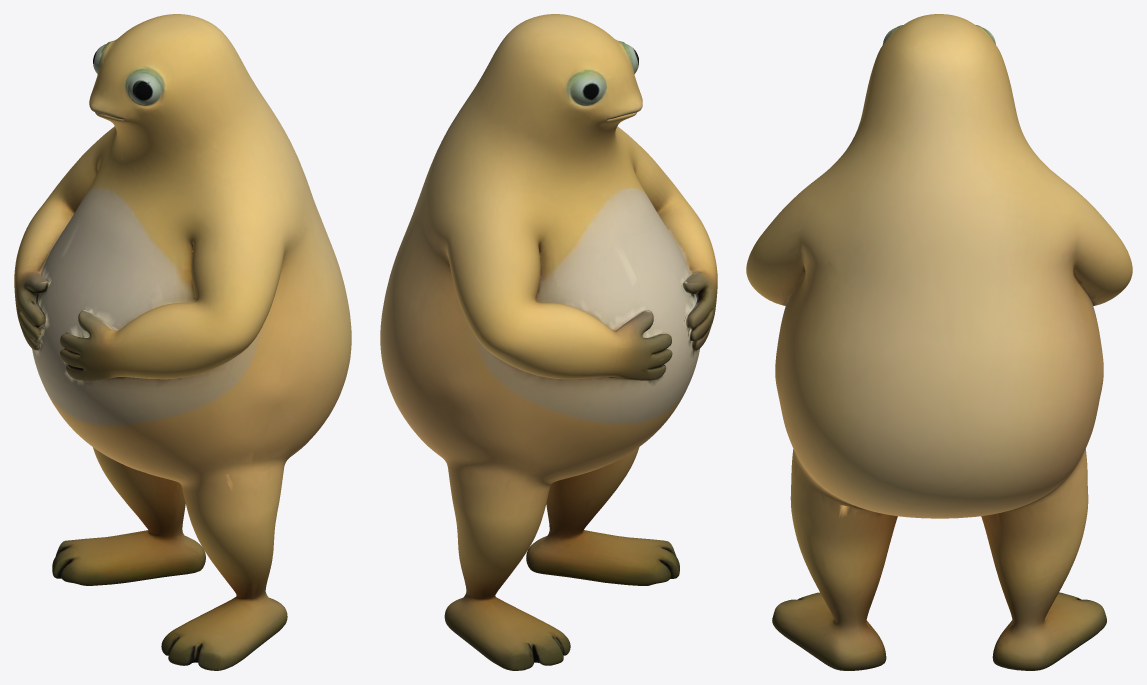
File: baby1.glb
The picture shows the model from 3 angles, left to right: view 1: azimuth 30°, elevation 25°; view 2: azimuth 150°, elevation 25°; view 3: azimuth 270°, elevation 25°; orthographic projection. The views are drawn at different scales.
Visible parts, largest first — view 1: node_0; view 2: node_0; view 3: node_0.
Part boxes in pixels (x1,y1,x2,y2): node_0: [14, 14, 351, 670]; node_0: [380, 14, 717, 670]; node_0: [746, 14, 1132, 670].
Size of the model in its own units: 0.5375 by 1.07 by 0.6081.
1 material, 1 textured.
